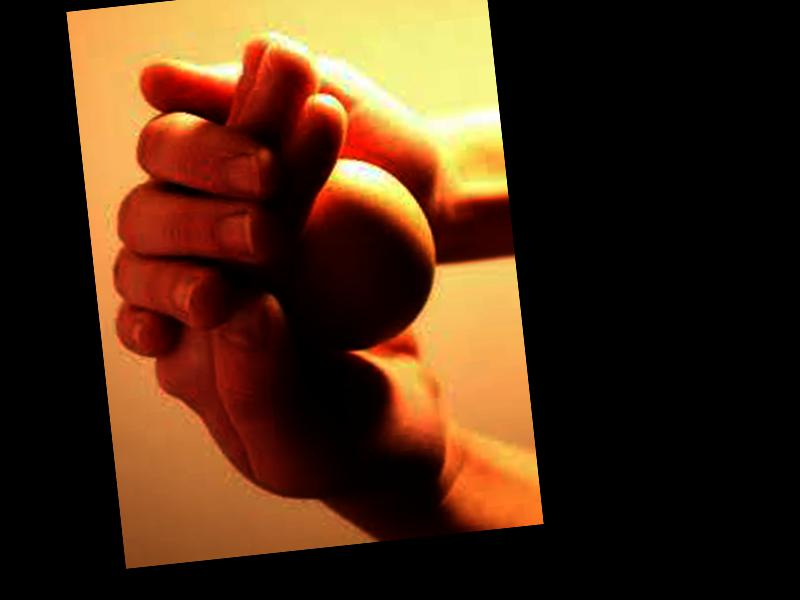Eggs: (278, 150, 445, 358)
